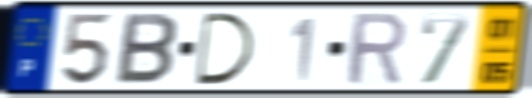1: (288, 15, 316, 83)
5: (61, 12, 113, 87)
7: (418, 11, 474, 87)
B: (112, 11, 180, 87)
D: (193, 10, 258, 88)
R: (345, 10, 409, 88)
